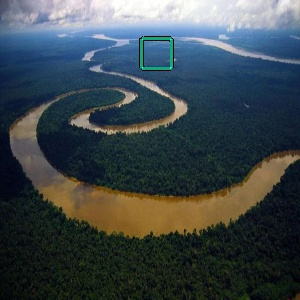square: (139, 36, 175, 71)
